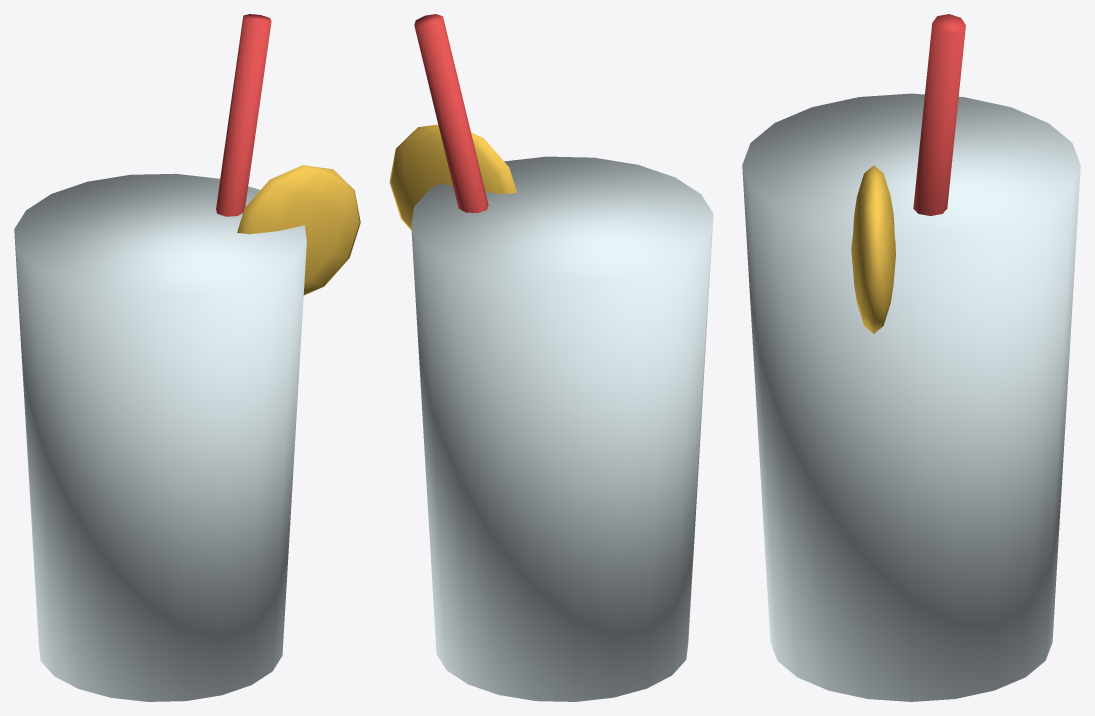
Rendered from festival-juice.glb.
The picture shows the model from 3 angles, left to right: view 1: azimuth 30°, elevation 25°; view 2: azimuth 150°, elevation 25°; view 3: azimuth 270°, elevation 25°; orthographic projection. The views are drawn at different scales.
Parts seen in each view (by area): view 1: cup; view 2: cup; view 3: cup.
Boxes of the visible parts, x1,y1,x2,y2 form: cup: [14, 14, 360, 701]; cup: [389, 14, 713, 701]; cup: [742, 14, 1080, 701].
Size of the model in its own units: 0.2199 by 0.4018 by 0.18.
